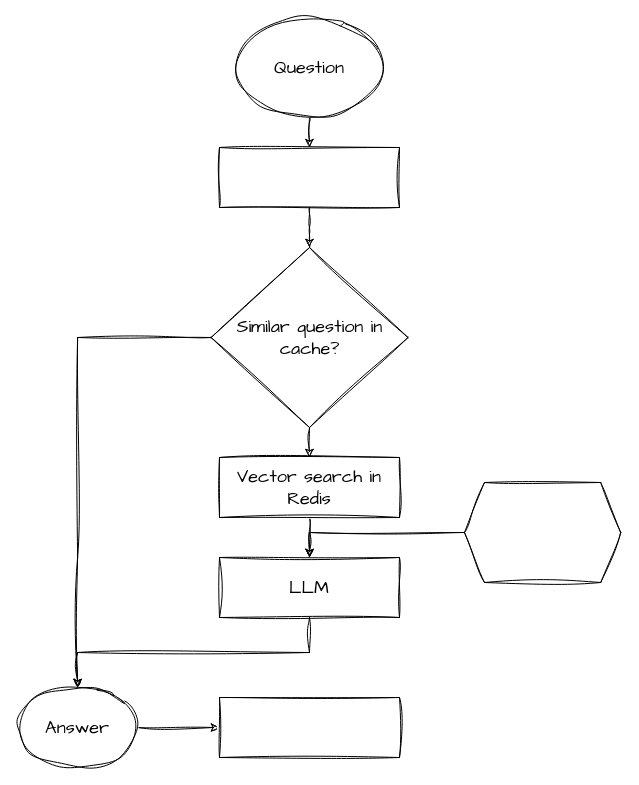
Some shapes in this 639 by 785 pixel diagram are drawn without their labels. The centre of each missing label's shape, as x and y in pixels:
"Embeddings" belongs at (x=309, y=177).
"Memories, current session history" belongs at (x=542, y=532).
"Update memory and session history" belongs at (x=309, y=727).
